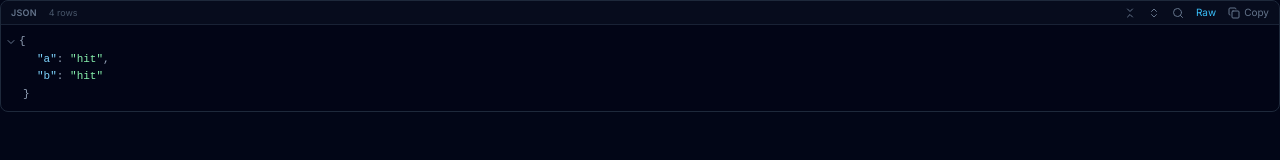
Test: ValueView: find › wraps around at the ends
This screenshot has width=1280, height=160.
Click the button titled "Find in this value" at x=1178, y=12, box [1172,6,1184,18]
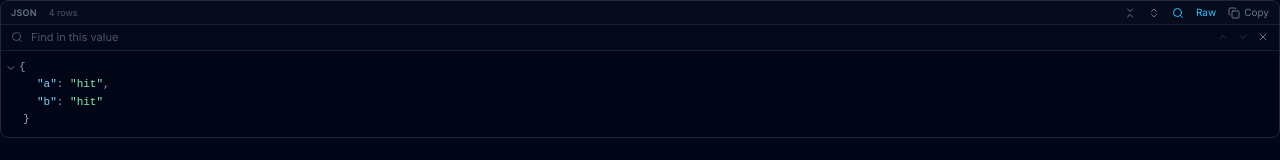
Type "hit" into the field labelled "Find in this value" at x=616, y=37, box [31,29,1201,46]
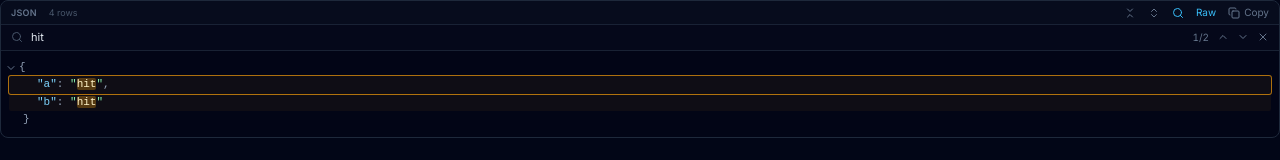
Click the button named "Previous match" at x=1223, y=37, box [1217,31,1229,43]
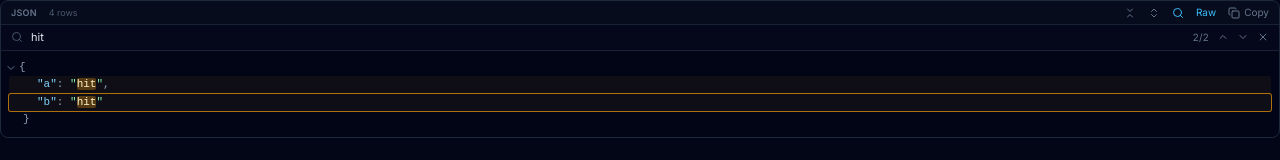
Expected: the text "2/2" is shown, [1192,30,1209,45]
